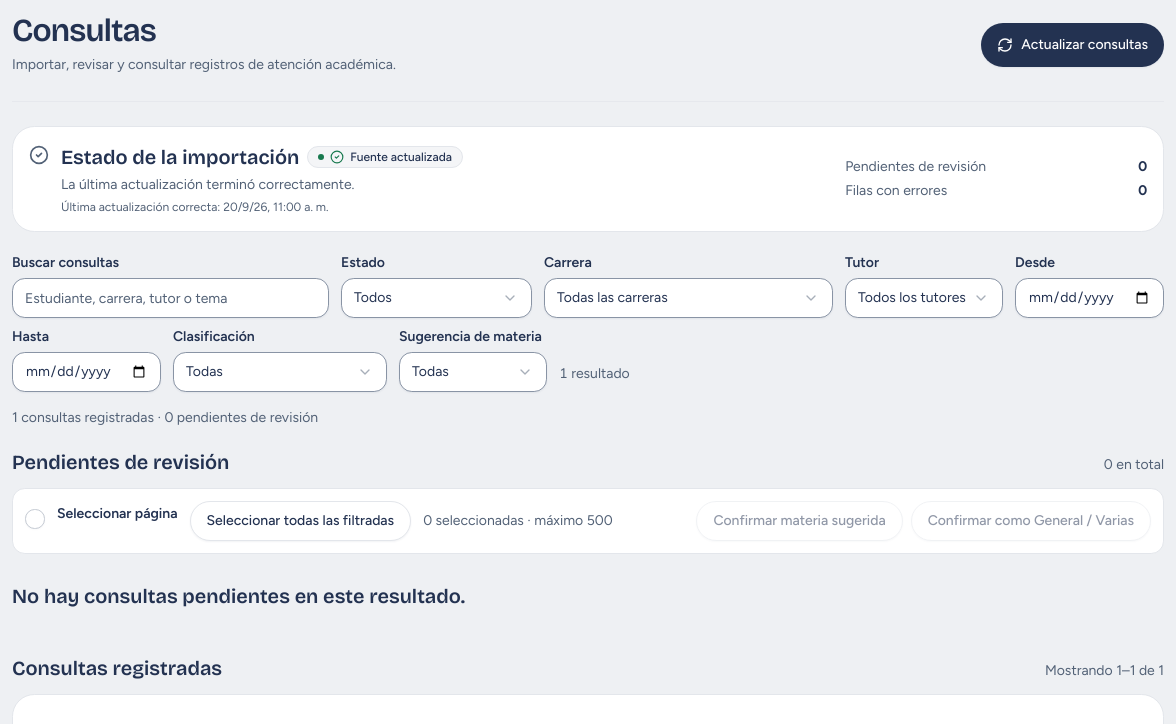
Test: ConsultationsScreen › disables repeated import submissions while one request is in progress
What coordinates should you click on to do the following:
click the button "Actualizar consultas"
I would click on:
 (1073, 45)
Its box is [981,23,1164,67].
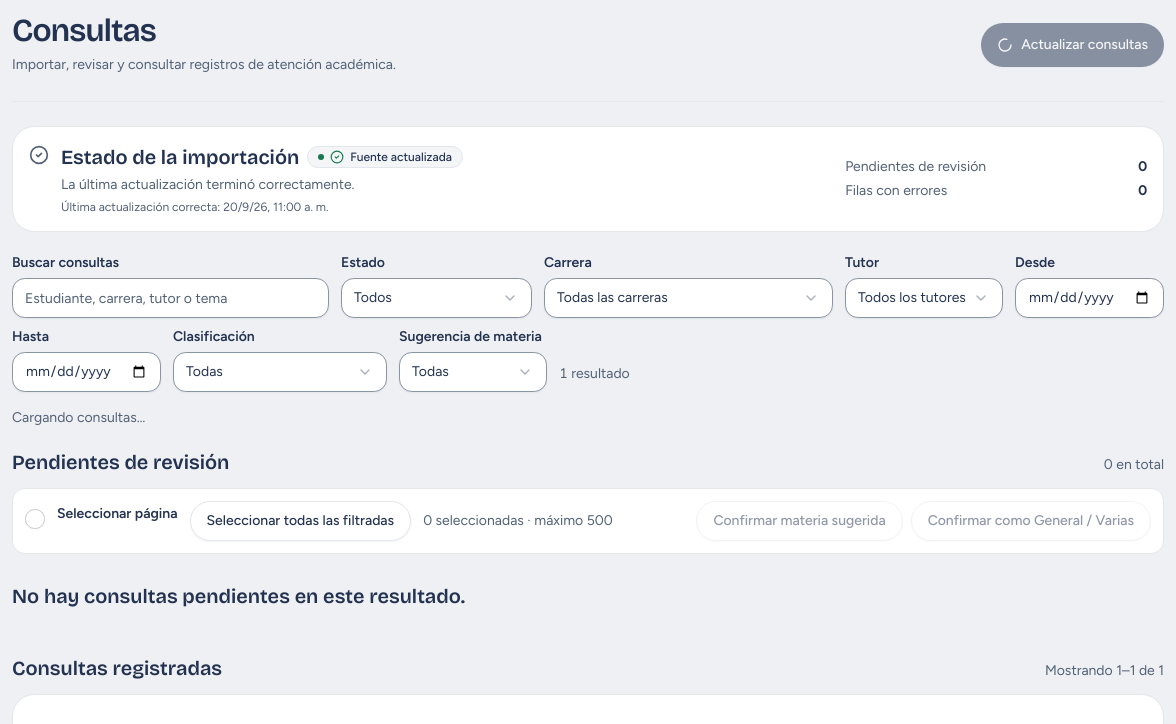
Expected: the button "Actualizar consultas" is disabled
What coordinates should you click on to do the following:
click the button "Actualizar consultas"
I would click on:
 (1073, 45)
Its box is [981,23,1164,67].
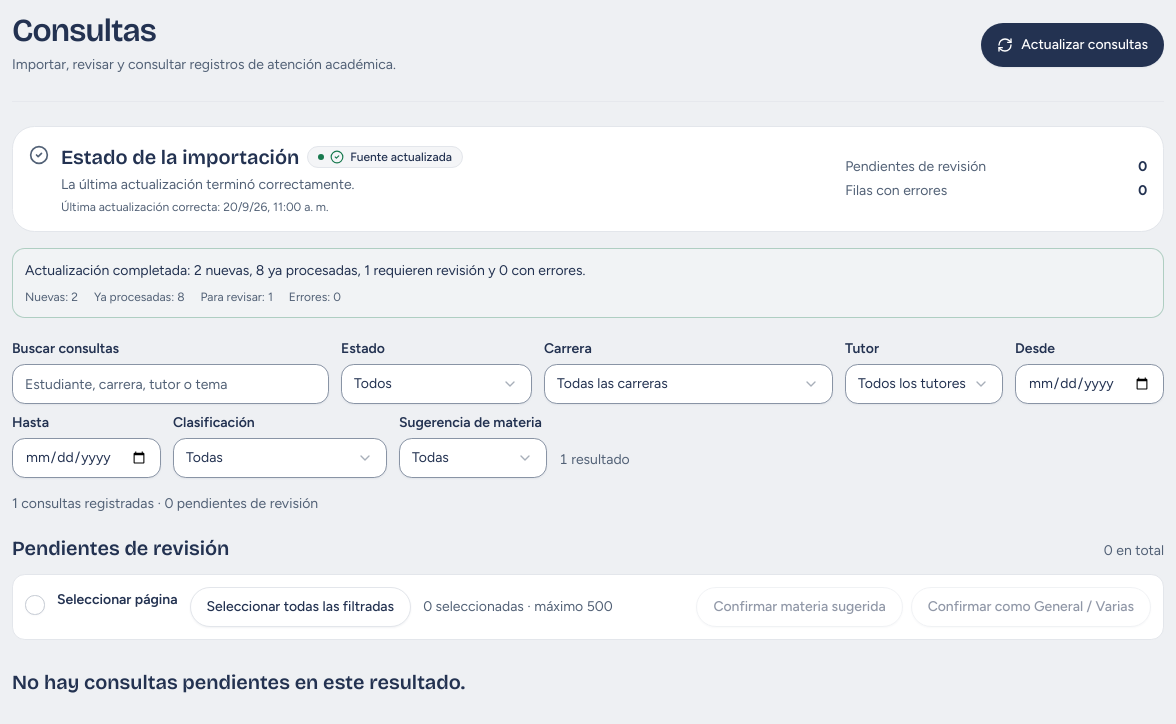
Expected: the text "Actualización completada:" is shown, [25,262,585,279]
